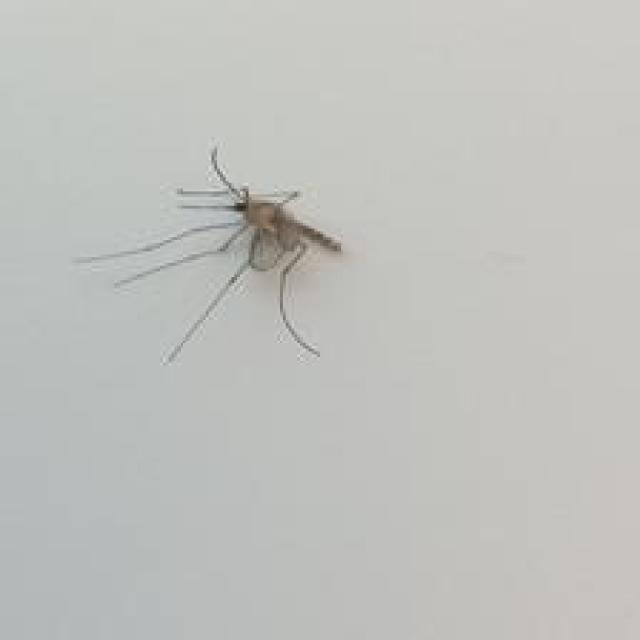Culex: (73, 143, 344, 366)
